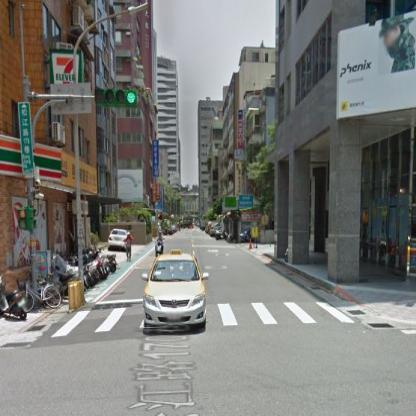Green Light: (94, 87, 137, 107)
